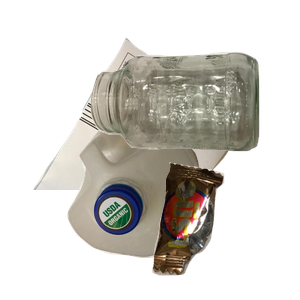glass: (88, 50, 300, 194)
paper: (31, 35, 271, 215)
plastic: (65, 123, 257, 300)
trash: (150, 160, 300, 300)
